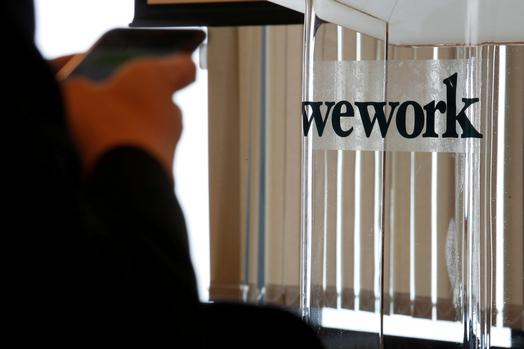wework: (301, 69, 485, 142)
